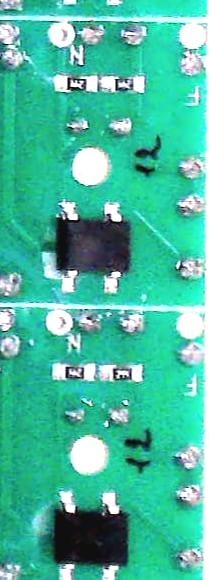chip-resistor: (52, 364, 96, 380), (99, 365, 142, 381), (101, 77, 143, 93), (56, 76, 96, 92)
ic: (55, 200, 131, 294), (52, 489, 129, 579)
